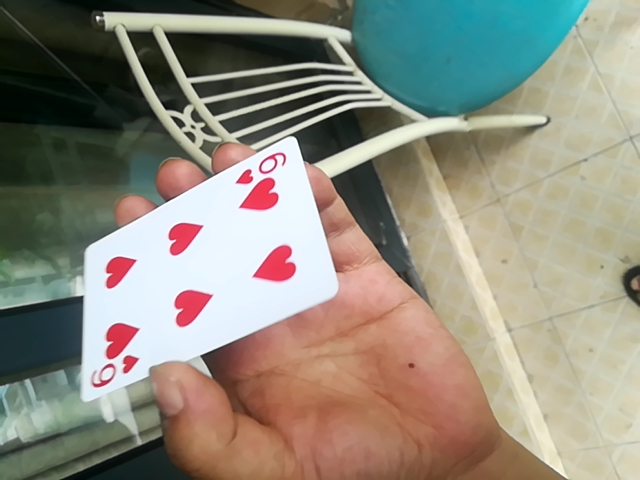hx 6: (75, 138, 331, 405)
